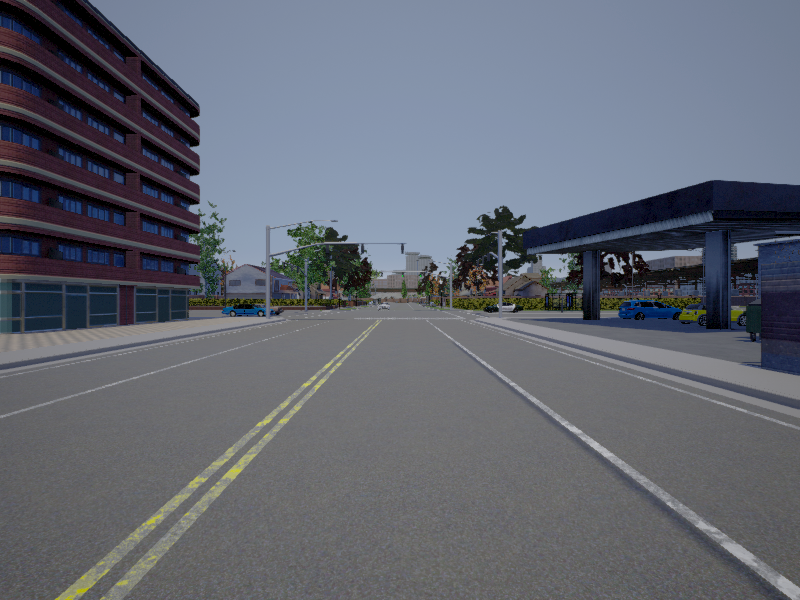benign: (679, 302, 747, 327), (617, 301, 681, 322), (222, 302, 274, 318), (484, 301, 522, 313), (377, 301, 391, 311)
